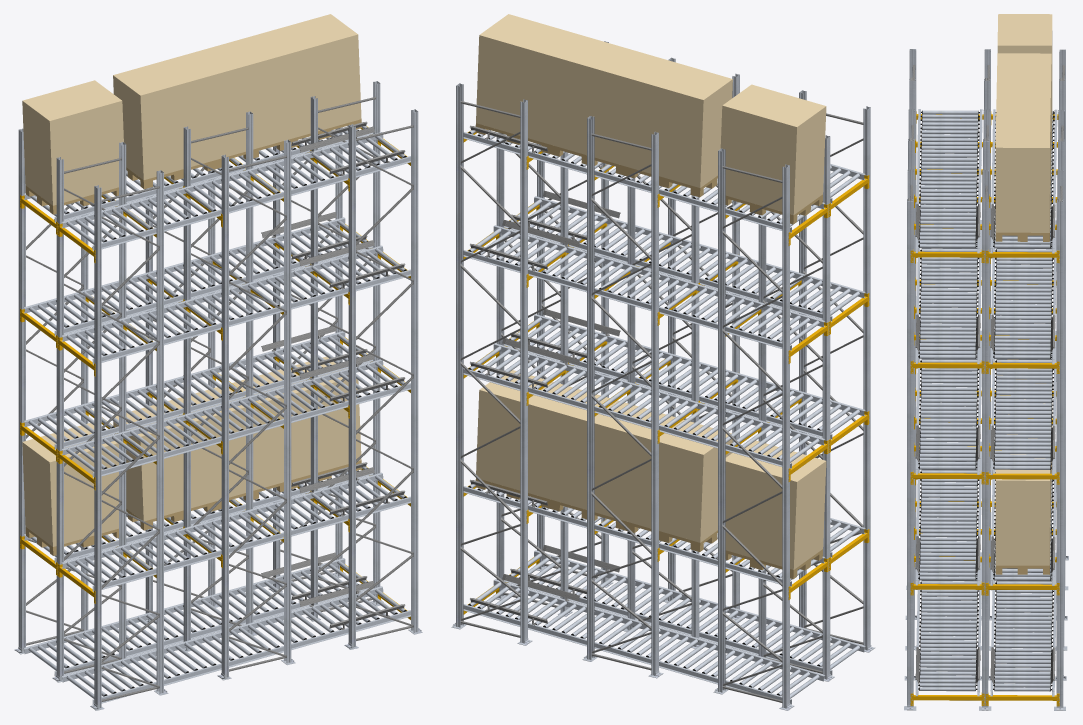
File: rack3.glb
The picture shows the model from 3 angles, left to right: view 1: azimuth 30°, elevation 25°; view 2: azimuth 150°, elevation 25°; view 3: azimuth 270°, elevation 25°; orthographic projection. The views are drawn at different scales.
Visible parts, largest first — view 1: Mesh450__Metal_Aluminum_Anodized_3_0, Mesh77_Wood_OSB_0, Mesh452_Metal_Embossed_0, Mesh37_Color_C01_0, Mesh78__12_0, Mesh2_FrontColor_0; view 2: Mesh450__Metal_Aluminum_Anodized_3_0, Mesh77_Wood_OSB_0, Mesh452_Metal_Embossed_0, Mesh37_Color_C01_0, Mesh78__12_0, Mesh2_FrontColor_0; view 3: Mesh450__Metal_Aluminum_Anodized_3_0, Mesh77_Wood_OSB_0, Mesh37_Color_C01_0, Mesh452_Metal_Embossed_0, Mesh2_FrontColor_0, Mesh78__12_0.
Part boxes in pixels (box(x1,y1,x2,y2)): Mesh450__Metal_Aluminum_Anodized_3_0: box(14, 81, 422, 710); Mesh77_Wood_OSB_0: box(22, 14, 361, 546); Mesh452_Metal_Embossed_0: box(26, 96, 413, 701); Mesh37_Color_C01_0: box(20, 126, 410, 619); Mesh78__12_0: box(25, 119, 361, 555); Mesh2_FrontColor_0: box(28, 127, 406, 696); Mesh450__Metal_Aluminum_Anodized_3_0: box(451, 41, 875, 710); Mesh77_Wood_OSB_0: box(476, 14, 826, 569); Mesh452_Metal_Embossed_0: box(460, 101, 863, 702); Mesh37_Color_C01_0: box(463, 130, 869, 614); Mesh78__12_0: box(475, 123, 822, 579); Mesh2_FrontColor_0: box(468, 132, 860, 695); Mesh450__Metal_Aluminum_Anodized_3_0: box(904, 49, 1068, 710); Mesh77_Wood_OSB_0: box(995, 14, 1052, 565); Mesh37_Color_C01_0: box(910, 111, 1059, 706); Mesh452_Metal_Embossed_0: box(908, 65, 1064, 683); Mesh2_FrontColor_0: box(918, 110, 1054, 691); Mesh78__12_0: box(995, 114, 1052, 574).
Bounding box in the file's own units: 181 × 300 × 80.83.
6 materials, 2 textured.
